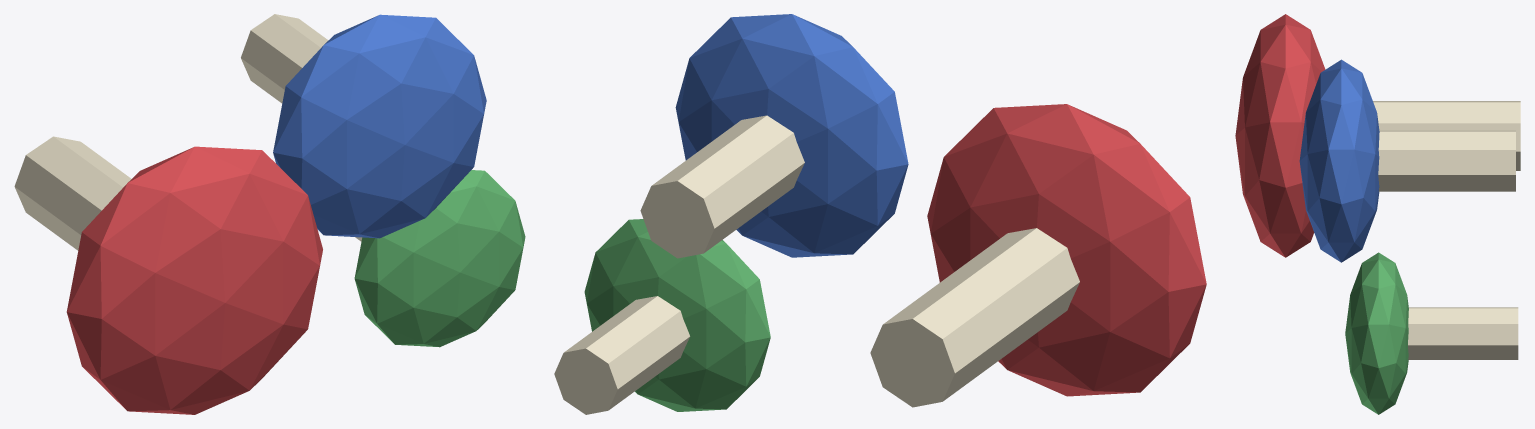
The model's file is forest_mushroom_cluster.glb.
The picture shows the model from 3 angles, left to right: view 1: azimuth 30°, elevation 25°; view 2: azimuth 150°, elevation 25°; view 3: azimuth 270°, elevation 25°; orthographic projection. The views are drawn at different scales.
Visible parts, largest first — view 1: cap_a, cap_b, cap_c, stem_a, stem_b; view 2: cap_a, cap_b, stem_a, cap_c, stem_b, stem_c; view 3: cap_a, cap_b, stem_b, cap_c, stem_c, stem_a.
Part boxes in pixels (<box>): cap_a: <box>66,146,322,414</box>; cap_b: <box>273,14,486,238</box>; cap_c: <box>354,170,525,347</box>; stem_a: <box>14,136,131,250</box>; stem_b: <box>241,14,328,103</box>; cap_a: <box>927,104,1206,396</box>; cap_b: <box>675,14,908,257</box>; stem_a: <box>870,228,1079,407</box>; cap_c: <box>584,219,770,411</box>; stem_b: <box>640,115,804,258</box>; stem_c: <box>554,296,690,414</box>; cap_a: <box>1235,14,1325,257</box>; cap_b: <box>1299,59,1379,262</box>; stem_b: <box>1378,130,1515,191</box>; cap_c: <box>1345,252,1408,414</box>; stem_c: <box>1408,307,1518,359</box>; stem_a: <box>1373,101,1520,170</box>.
Size of the model in its own units: 1.06 by 0.726 by 0.613.
